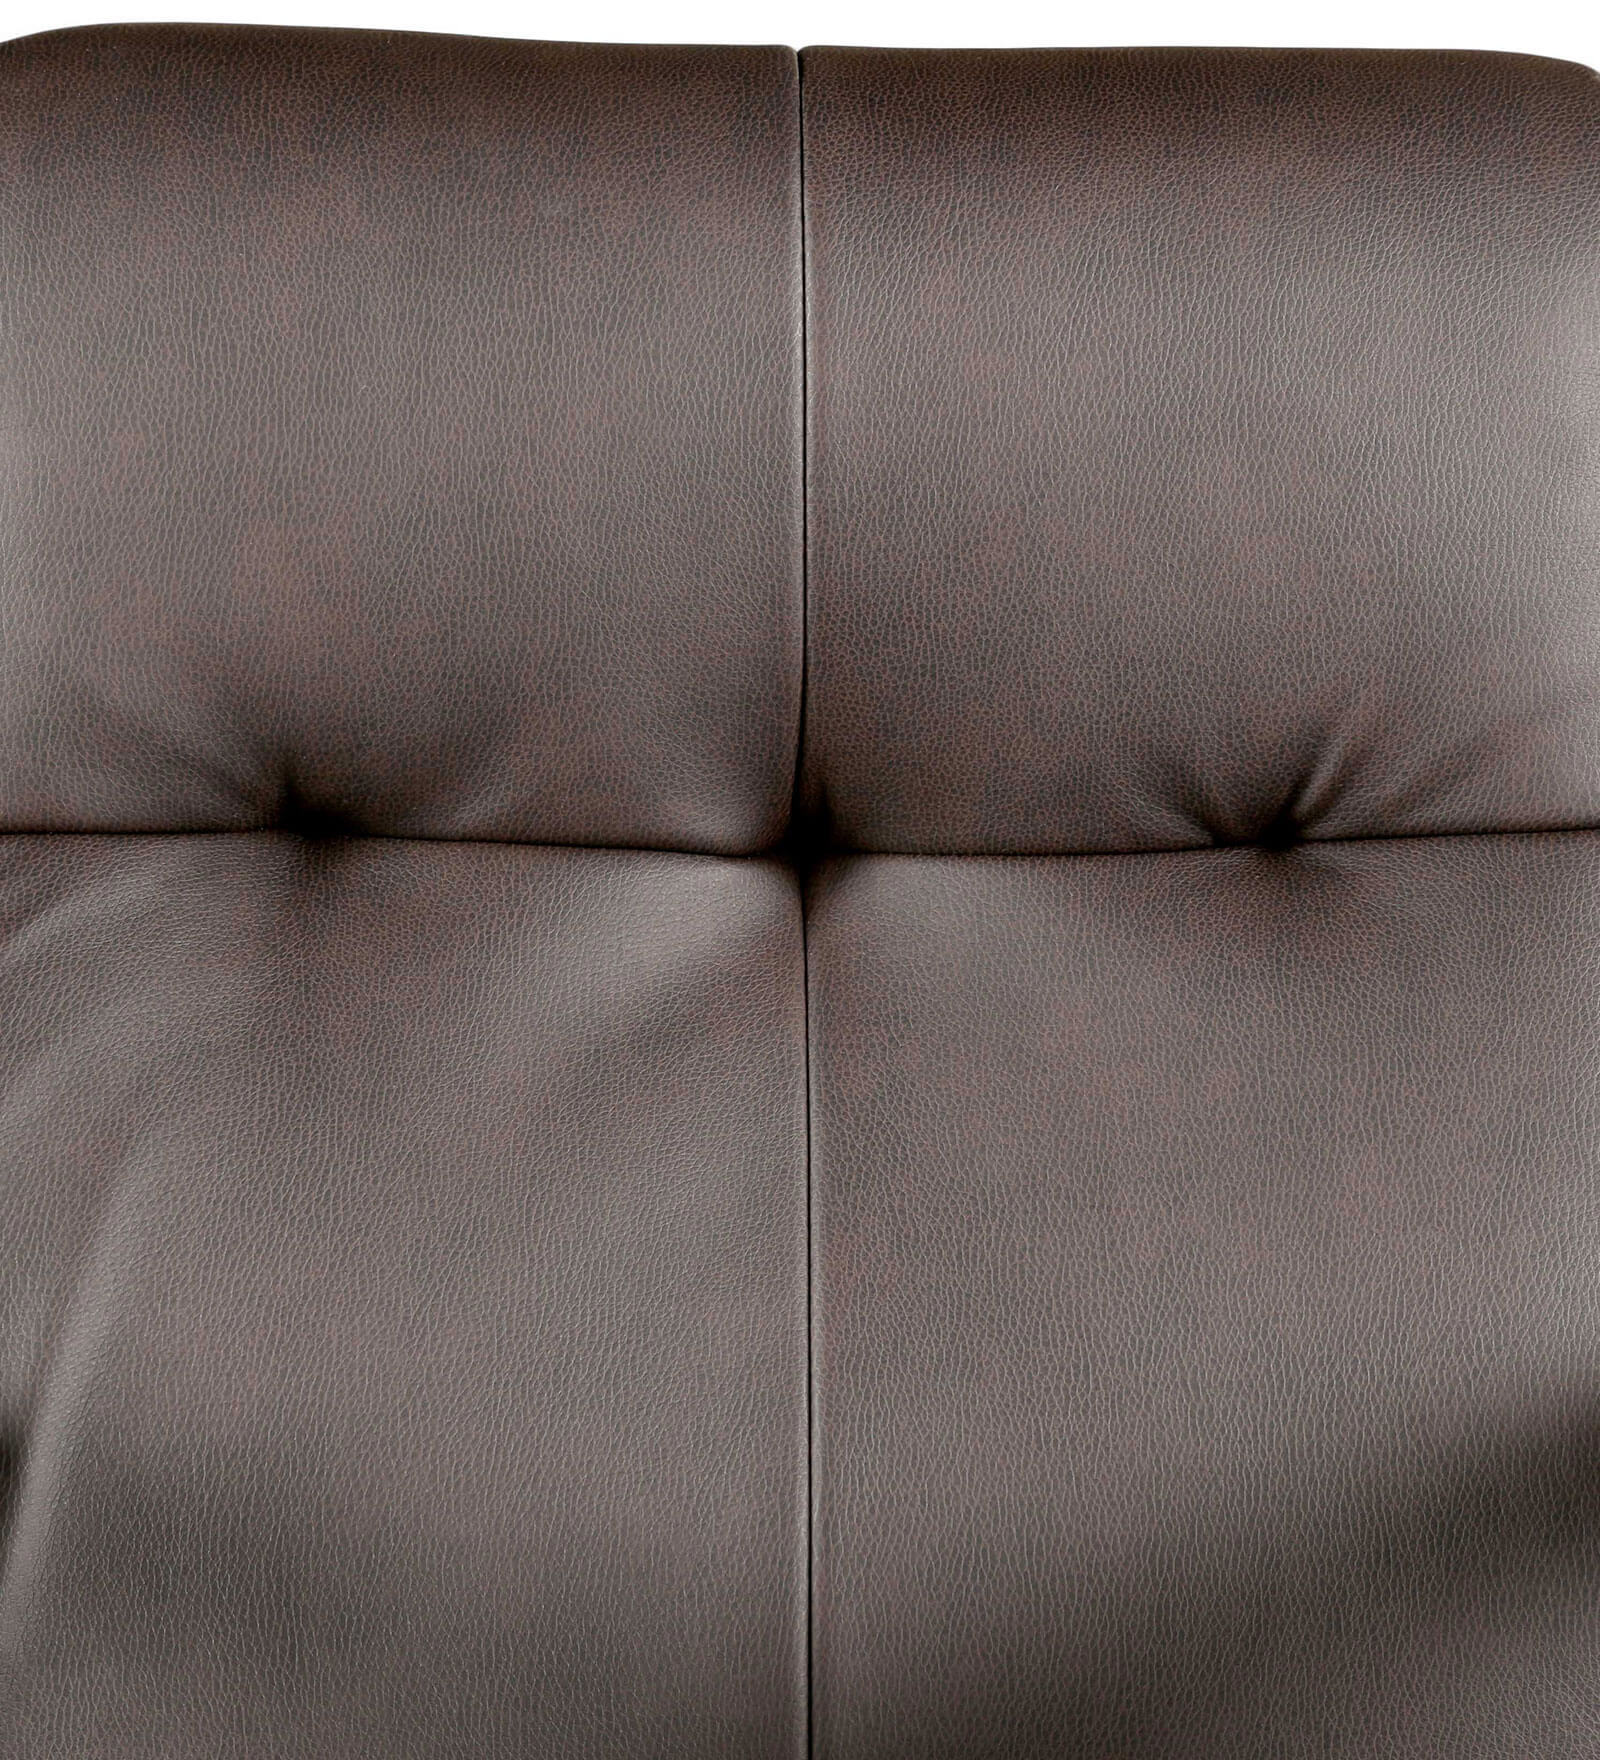Hugo Leatherette Ergonomic Chair by Hometown: (14, 17, 1589, 1760)
